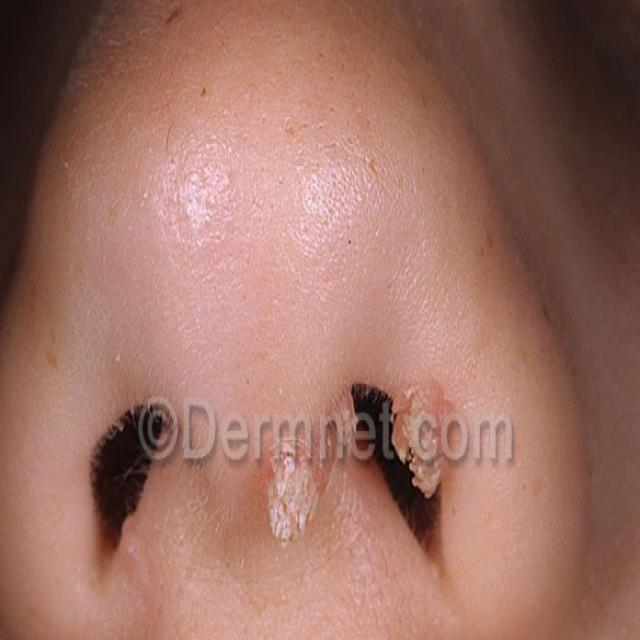Warts: (386, 345, 469, 522), (263, 449, 354, 606)
